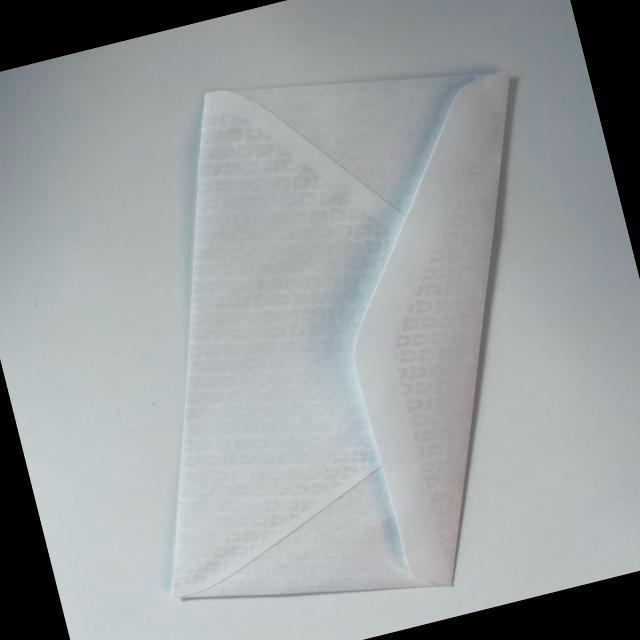paper: (55, 18, 625, 640)
